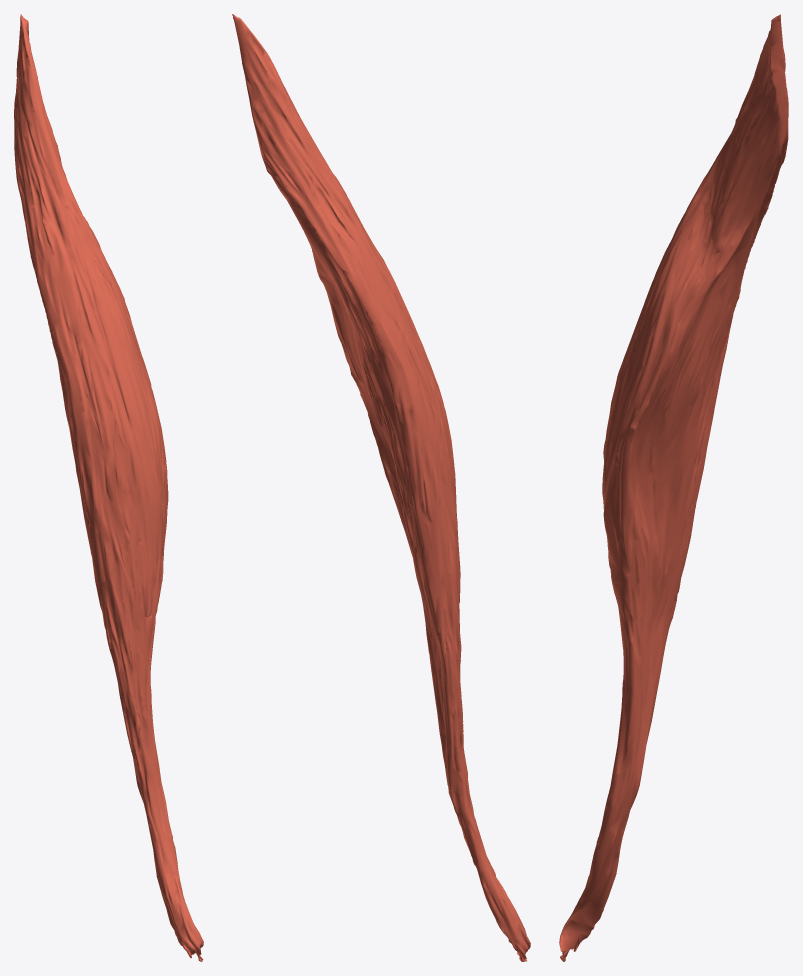
Rendered from brachioradialis.glb.
3 renders of one model, left to right at view 1: azimuth 90°, elevation 25°; view 2: azimuth 150°, elevation 25°; view 3: azimuth 270°, elevation 25°, orthographic. The views are drawn at different scales.
Visible parts, largest first — view 1: Brachioradialis muscle.r; view 2: Brachioradialis muscle.r; view 3: Brachioradialis muscle.r.
Part boxes in pixels (x1=…): Brachioradialis muscle.r: x1=14, y1=14, x2=203, y2=961; Brachioradialis muscle.r: x1=232, y1=14, x2=530, y2=961; Brachioradialis muscle.r: x1=559, y1=14, x2=788, y2=961.
Size of the model in its own units: 0.0748 by 0.3491 by 0.0694.
